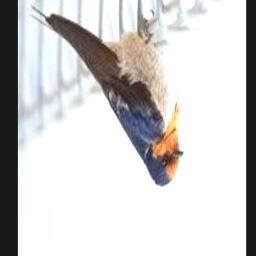Swallow: (30, 5, 184, 187)
